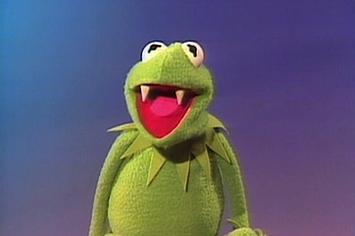kermit: (119, 40, 216, 145)
